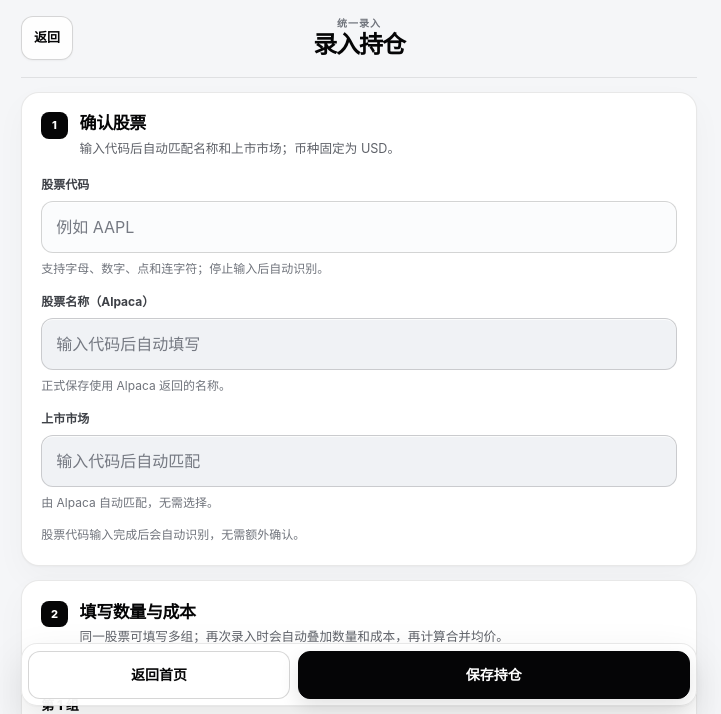
Test: PositionEntryForm › automatically resolves the symbol, market, and fixed USD currency
Expected: the heading "录入持仓" is shown, [313,30,405,59]
Type "aapl" into the field labelled "股票代码".
click(359, 227); type("aapl")  # box [41,201,677,253]
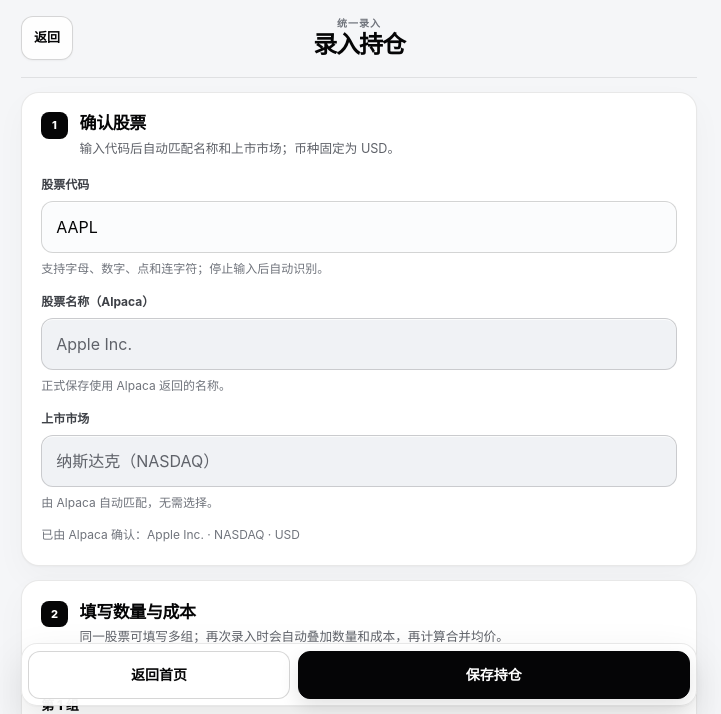
Expected: the field labelled "股票名称（Alpaca）" holds "Apple Inc.", [41,318,677,370]
Expected: the field labelled "上市市场" holds "纳斯达克（NASDAQ）", [41,435,677,487]
Expected: the text "已由 Alpaca 确认：Apple Inc. · NASDAQ · USD" is shown, [41,527,300,542]
